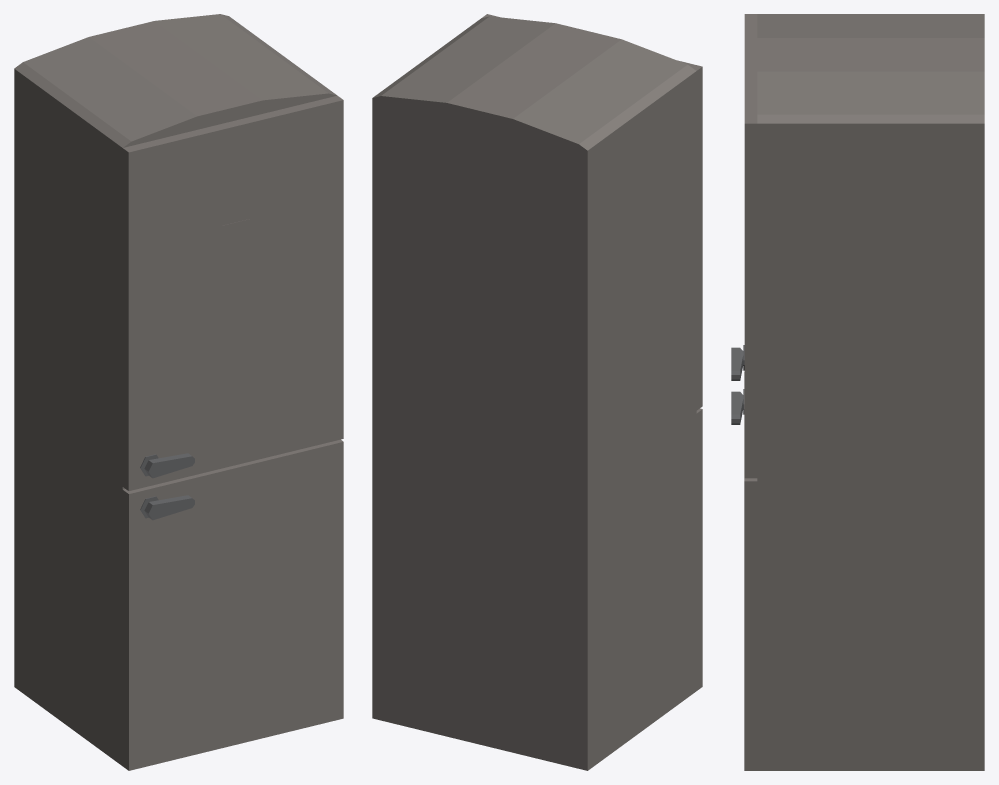
The model's file is oldrefrigerator_01_A.gltf.
3 views of the same model, side by side, from view 1: azimuth 30°, elevation 25°; view 2: azimuth 150°, elevation 25°; view 3: azimuth 270°, elevation 25° (orthographic). The views are drawn at different scales.
Visible parts, largest first — view 1: oldrefrigerator_01_A, Dooroldrefrigeratortop_01_A, Dooroldrefrigerator top_01_A; view 2: oldrefrigerator_01_A, Dooroldrefrigeratortop_01_A, Dooroldrefrigerator top_01_A; view 3: oldrefrigerator_01_A, Dooroldrefrigeratortop_01_A, Dooroldrefrigerator top_01_A.
Boxes of the visible parts, x1,y1,x2,y2 form: oldrefrigerator_01_A: (14, 14, 336, 765); Dooroldrefrigeratortop_01_A: (122, 95, 343, 490); Dooroldrefrigerator top_01_A: (122, 439, 343, 770); oldrefrigerator_01_A: (372, 16, 696, 770); Dooroldrefrigeratortop_01_A: (481, 14, 702, 410); Dooroldrefrigerator top_01_A: (696, 408, 702, 690); oldrefrigerator_01_A: (757, 14, 984, 770); Dooroldrefrigeratortop_01_A: (731, 14, 757, 478); Dooroldrefrigerator top_01_A: (731, 372, 757, 770).
Bounding box in the file's own units: 0.8 × 2.25 × 0.7804.
1 material, 1 textured.
